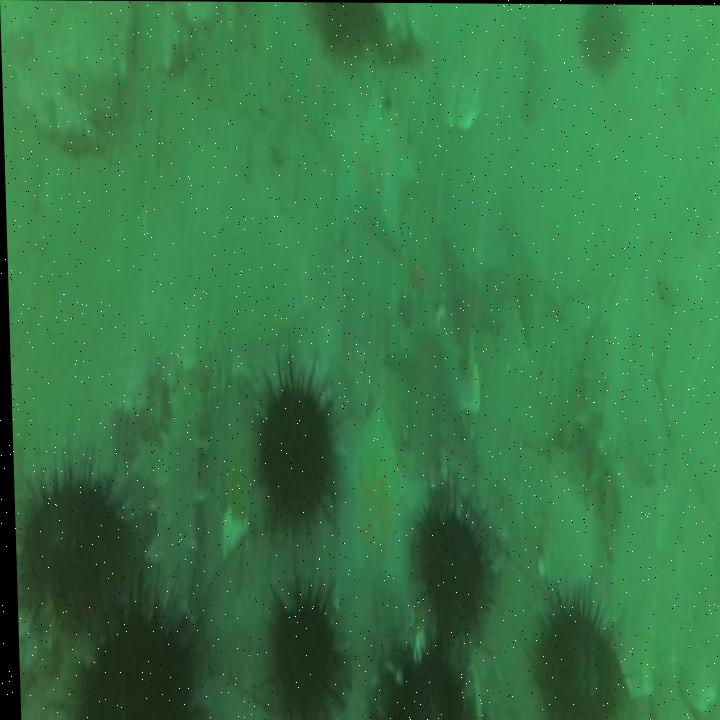echinus: (14, 471, 123, 635), (76, 610, 190, 720), (254, 387, 329, 521), (531, 598, 612, 720), (417, 514, 486, 636), (267, 593, 332, 718), (380, 652, 467, 720), (580, 3, 628, 73), (313, 4, 378, 50)
holothurian: (142, 379, 206, 620), (576, 302, 623, 489)
starfish: (328, 402, 427, 614), (319, 89, 418, 249), (381, 306, 466, 453), (495, 218, 566, 337), (439, 241, 503, 339)
